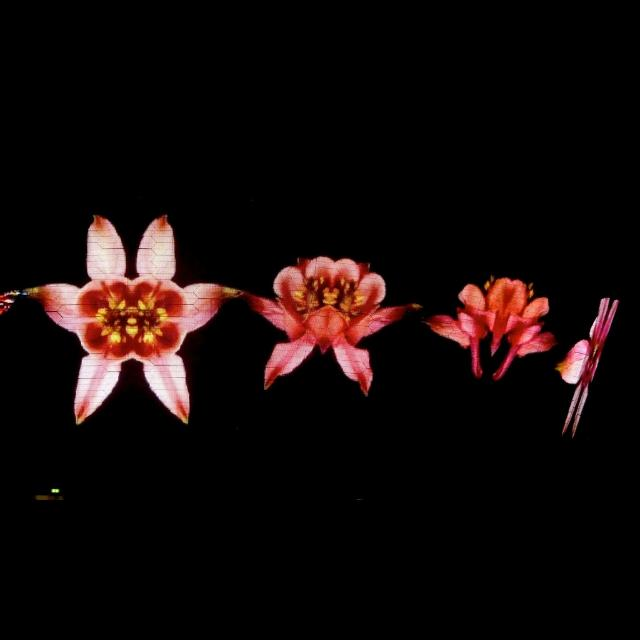Flower: (22, 215, 242, 423), (241, 255, 423, 390), (430, 272, 548, 376), (555, 298, 621, 438)
